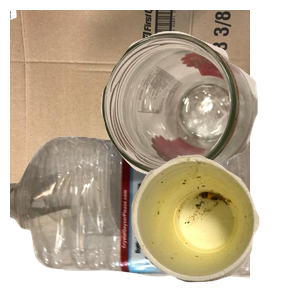cardboard: (10, 10, 250, 190)
glass: (98, 29, 300, 198)
plastic: (10, 134, 250, 300)
trash: (129, 152, 300, 300)
